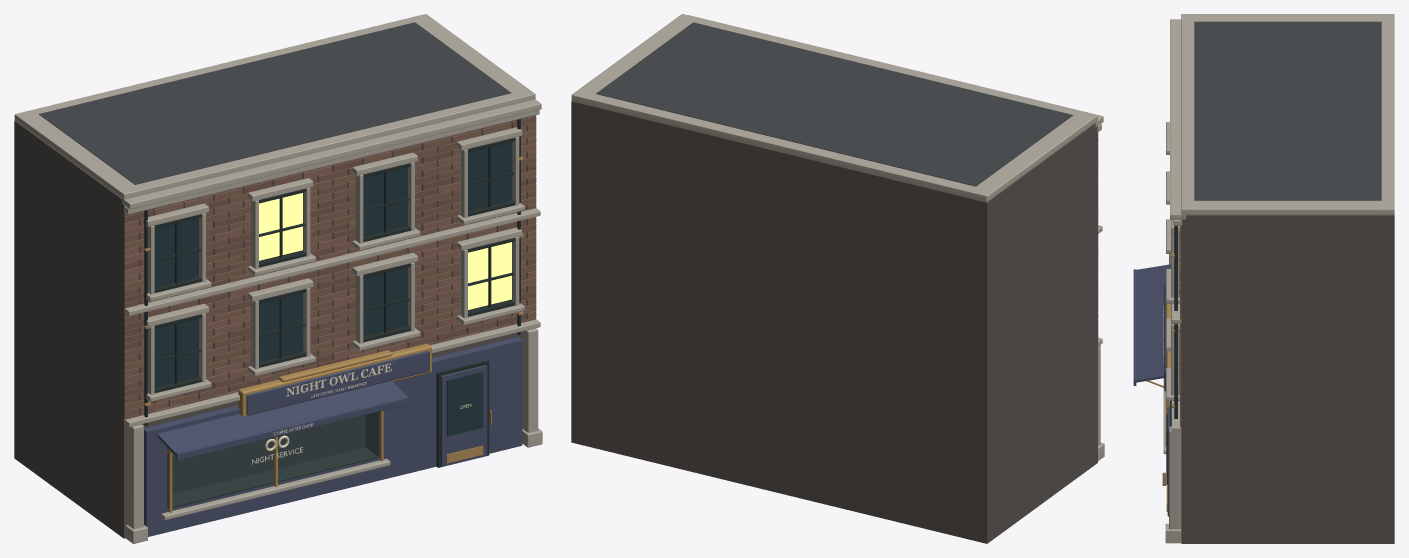
File: district-night-owl-cafe.glb
The picture shows the model from 3 angles, left to right: view 1: azimuth 30°, elevation 25°; view 2: azimuth 150°, elevation 25°; view 3: azimuth 270°, elevation 25°; orthographic projection. The views are drawn at different scales.
Visible parts, largest first — view 1: Existing envelope, District Warm limestone, District Roof membrane, District Coffee enamel, District Charcoal painted metal, District Opaque dark glazing, Roof cap, District Brick tone 3, District Shop window clear glazing, District Brick tone 0, District Brick tone 4, District Brick tone 2 (+6 smaller); view 2: Existing envelope, District Roof membrane, Roof cap, District Warm limestone; view 3: Existing envelope, District Roof membrane, Roof cap, District Warm limestone, District Coffee enamel, District Charcoal painted metal, District Aged brass.
Part boxes in pixels (x1,y1,x2,y2): Existing envelope: (14, 116, 535, 538); District Warm limestone: (121, 99, 542, 543); District Roof membrane: (39, 22, 510, 184); District Coffee enamel: (144, 337, 522, 536); District Charcoal painted metal: (144, 119, 520, 508); District Opaque dark glazing: (154, 142, 511, 436); Roof cap: (14, 14, 535, 199); District Brick tone 3: (124, 122, 536, 413); District Shop window clear glazing: (172, 412, 379, 508); District Brick tone 0: (124, 125, 536, 419); District Brick tone 4: (124, 115, 536, 412); District Brick tone 2: (124, 123, 536, 417); Existing envelope: (571, 101, 1097, 543); District Roof membrane: (596, 22, 1073, 186); Roof cap: (571, 14, 1097, 202); District Warm limestone: (688, 15, 1104, 460); Existing envelope: (1181, 215, 1394, 543); District Roof membrane: (1194, 21, 1381, 200); Roof cap: (1181, 14, 1394, 214); District Warm limestone: (1163, 19, 1185, 543); District Coffee enamel: (1133, 264, 1170, 385); District Charcoal painted metal: (1169, 226, 1179, 426); District Aged brass: (1146, 253, 1174, 511).
Bounding box in the file's own units: 11.7 × 9.36 × 6.62.
